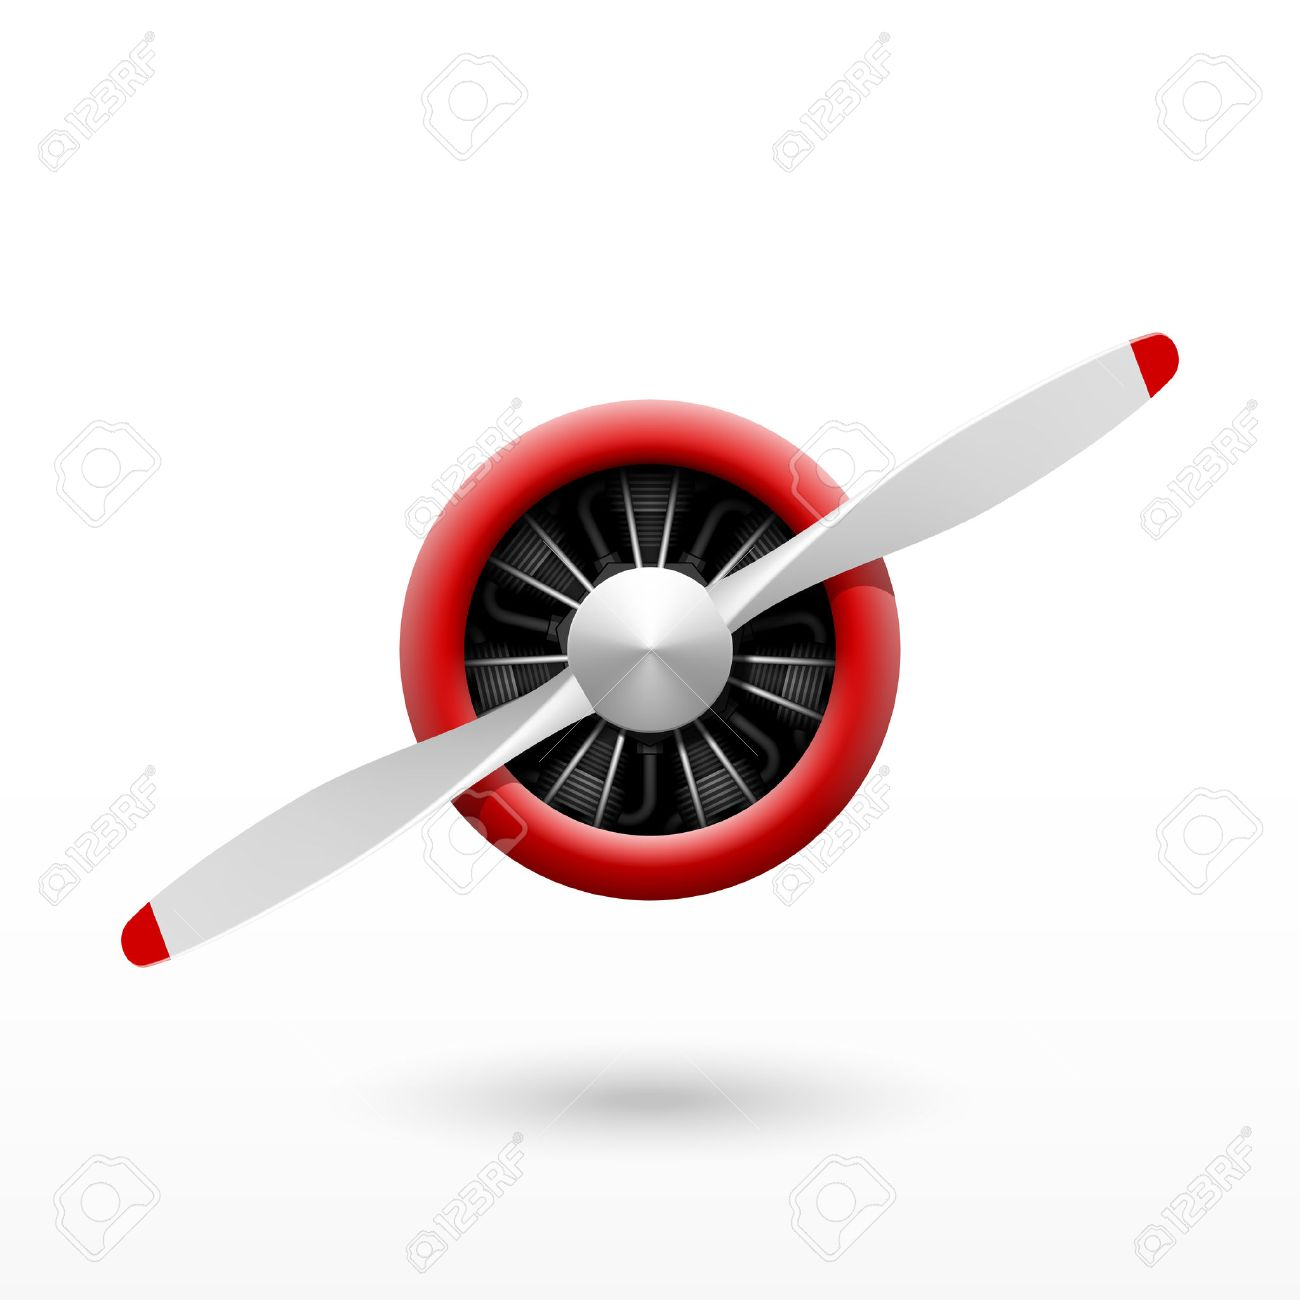Propeller: (85, 324, 1183, 973)
